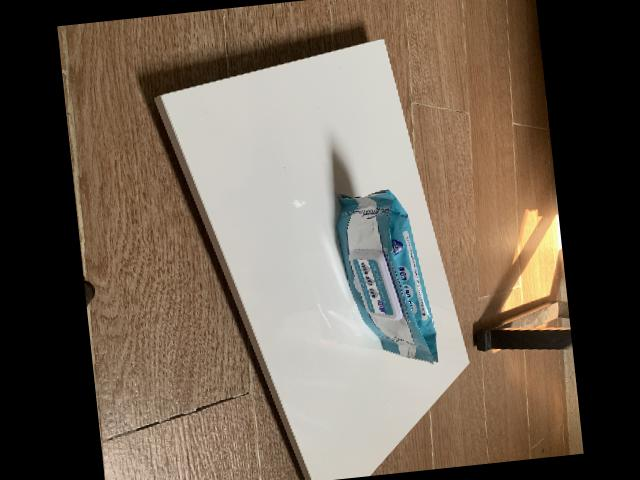Let-green_alcohol_wipes: (333, 189, 437, 364)
